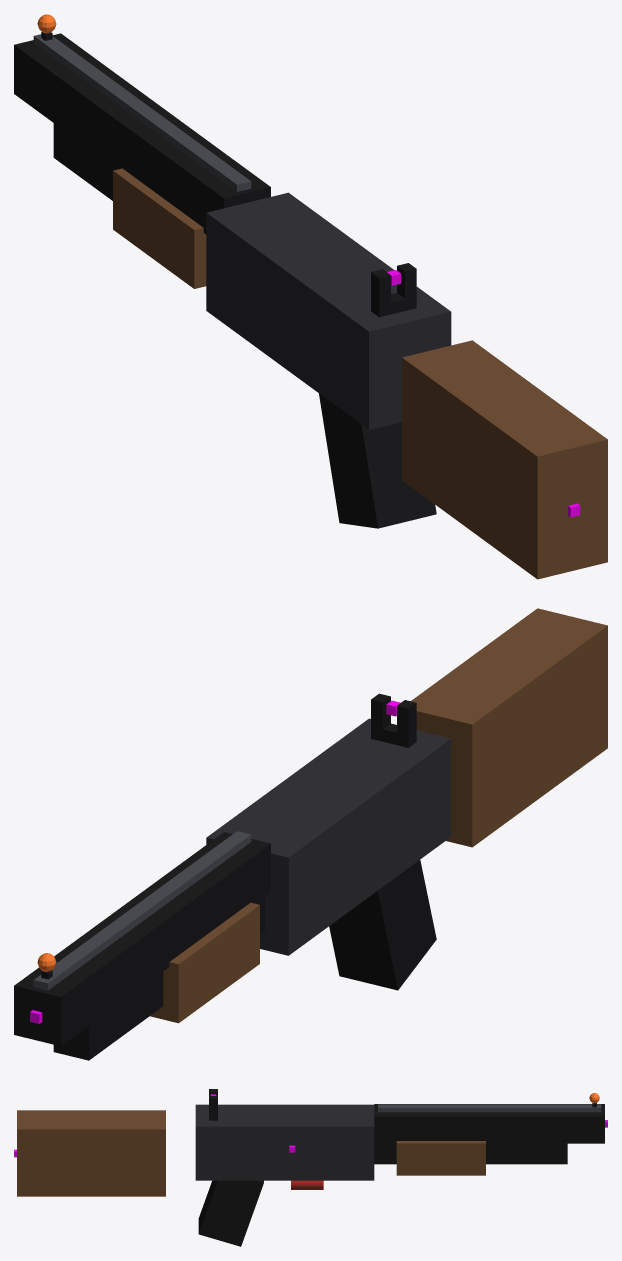
The model's file is Shotgun.obj.
The picture shows the model from 3 angles, top to bottom: view 1: azimuth 30°, elevation 25°; view 2: azimuth 150°, elevation 25°; view 3: azimuth 270°, elevation 25°; orthographic projection. The views are drawn at different scales.
Parts seen in each view (by area): view 1: Skin_Stock, Skin_Body, Barrel, Grip, Pump, Rib, Tube; view 2: Skin_Body, Skin_Stock, Barrel, Grip, Pump, Rib, Tube, RearBase, RearL, RearR; view 3: Skin_Body, Skin_Stock, Barrel, Grip, Pump, Tube, Rib, Shell.
Boxes of the visible parts, x1=… form: Skin_Stock: x1=402, y1=340, x2=607, y2=579; Skin_Body: x1=206, y1=192, x2=451, y2=429; Barrel: x1=14, y1=33, x2=270, y2=234; Grip: x1=319, y1=393, x2=436, y2=528; Pump: x1=113, y1=168, x2=206, y2=288; Rib: x1=33, y1=34, x2=251, y2=191; Tube: x1=53, y1=123, x2=116, y2=200; Skin_Body: x1=206, y1=718, x2=451, y2=955; Skin_Stock: x1=411, y1=608, x2=607, y2=847; Barrel: x1=14, y1=832, x2=270, y2=1046; Grip: x1=329, y1=860, x2=436, y2=990; Pump: x1=150, y1=902, x2=259, y2=1023; Rib: x1=33, y1=831, x2=251, y2=990; Tube: x1=53, y1=897, x2=264, y2=1060; RearBase: x1=371, y1=723, x2=416, y2=747; RearL: x1=397, y1=700, x2=416, y2=735; RearR: x1=371, y1=693, x2=390, y2=729; Skin_Body: x1=195, y1=1104, x2=374, y2=1180; Skin_Stock: x1=17, y1=1110, x2=165, y2=1196; Barrel: x1=374, y1=1104, x2=604, y2=1143; Grip: x1=198, y1=1180, x2=263, y2=1246; Pump: x1=396, y1=1141, x2=485, y2=1175; Tube: x1=374, y1=1143, x2=567, y2=1164; Rib: x1=378, y1=1104, x2=601, y2=1112; Shell: x1=291, y1=1180, x2=323, y2=1189.
Bounding box in the file's own units: 0.375 × 1.08 × 3.99.
